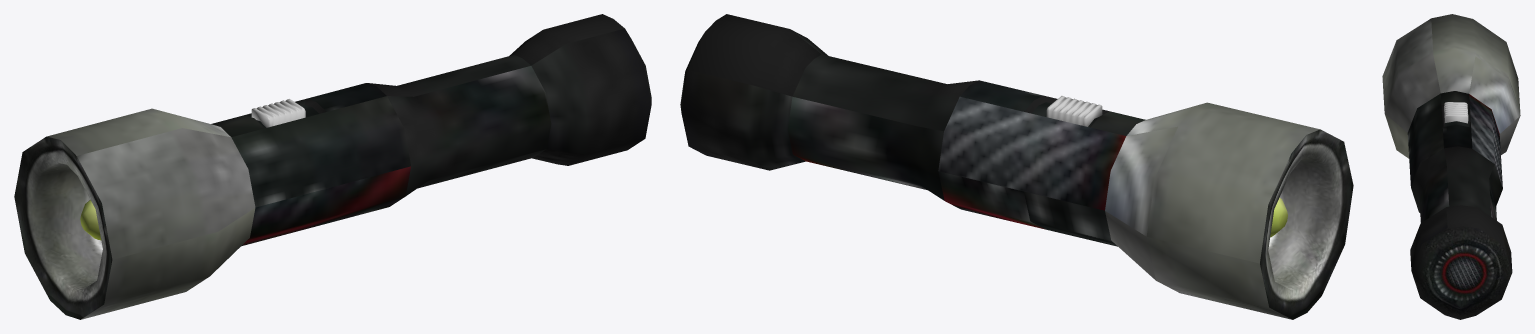
The model's file is Flashlight.FBX.
3 renders of one model, left to right at view 1: azimuth 30°, elevation 25°; view 2: azimuth 150°, elevation 25°; view 3: azimuth 270°, elevation 25°, orthographic. The views are drawn at different scales.
Visible parts, largest first — view 1: Flashlight, Button; view 2: Flashlight, Button; view 3: Flashlight, Button.
Boxes of the visible parts, box(x1,y1,x2,y2) form: Flashlight: box(14, 14, 651, 319); Button: box(251, 99, 305, 127); Flashlight: box(680, 14, 1353, 319); Button: box(1046, 96, 1102, 126); Flashlight: box(1382, 14, 1520, 319); Button: box(1444, 102, 1468, 123).
Size of the model in its own units: 219 by 63.23 by 63.12.
